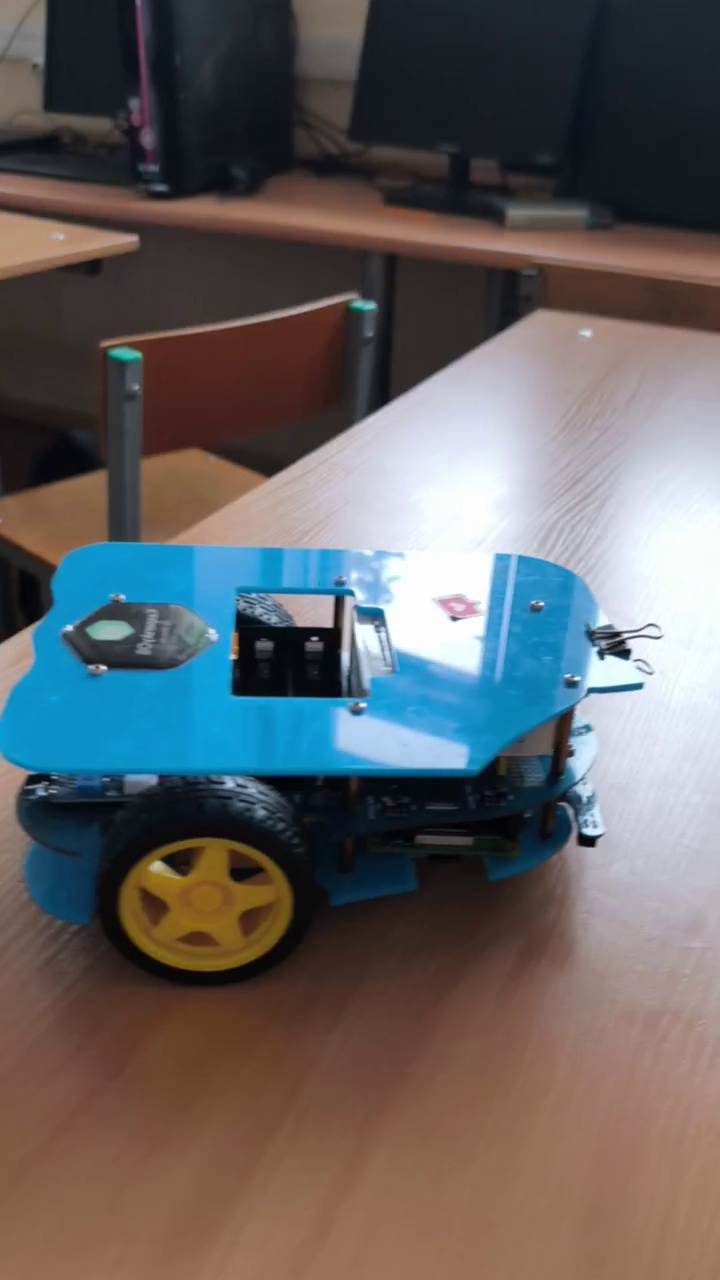robot: (2, 542, 667, 986)
